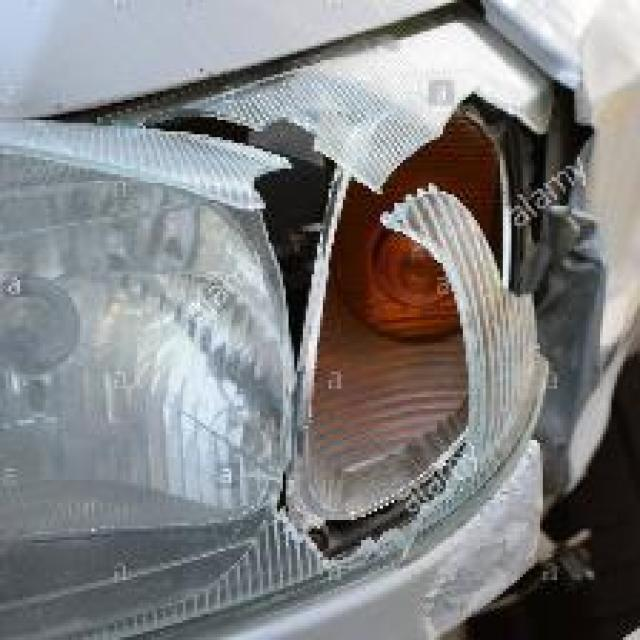damaged: (120, 94, 606, 603)
